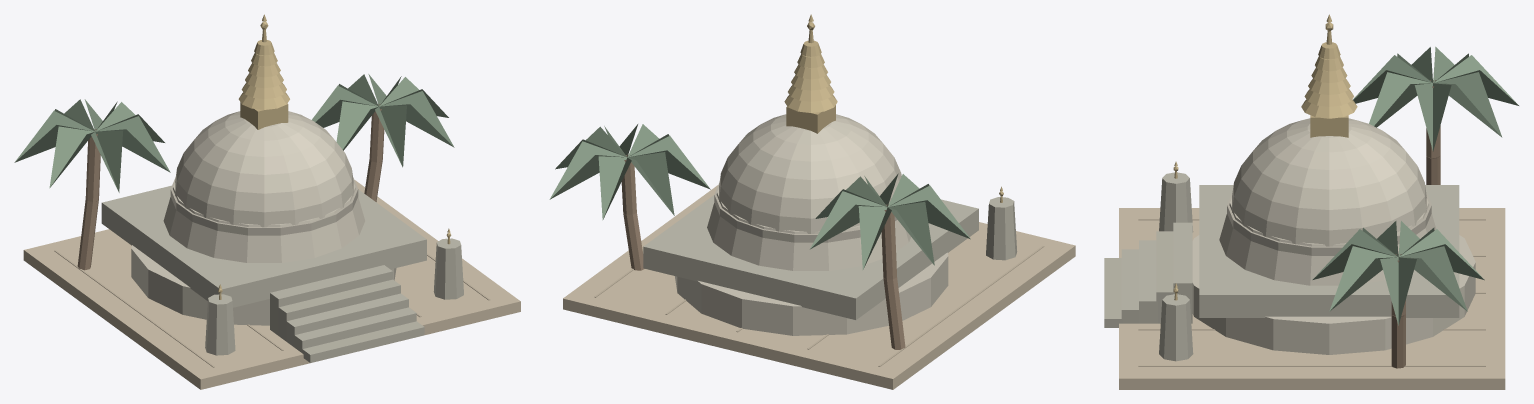
3 renders of one model, left to right at view 1: azimuth 30°, elevation 25°; view 2: azimuth 150°, elevation 25°; view 3: azimuth 270°, elevation 25°, orthographic. The views are drawn at different scales.
Visible parts, largest first — view 1: S30; view 2: S30; view 3: S30.
Boxes of the visible parts, x1,y1,x2,y2 form: S30: [14, 14, 520, 389]; S30: [549, 14, 1075, 389]; S30: [1104, 14, 1518, 389].
Bounding box in the file's own units: 4.39 × 2.78 × 3.6.
